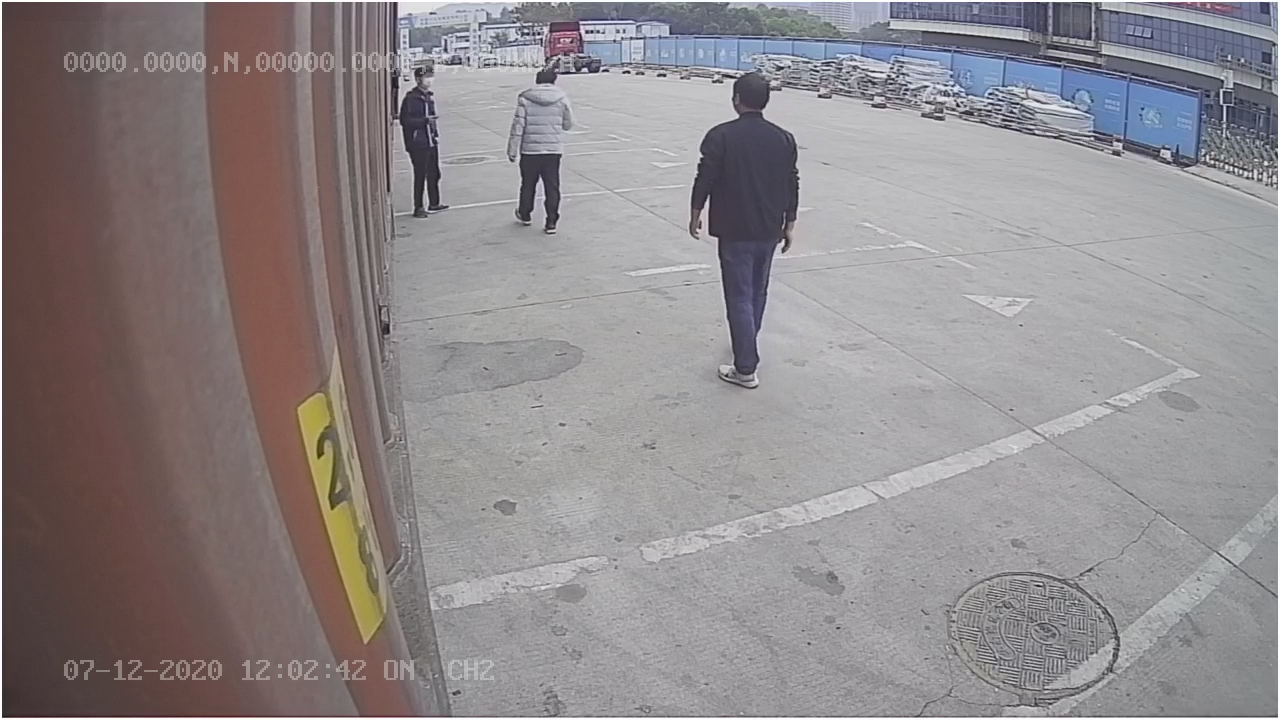person: (686, 72, 799, 392)
